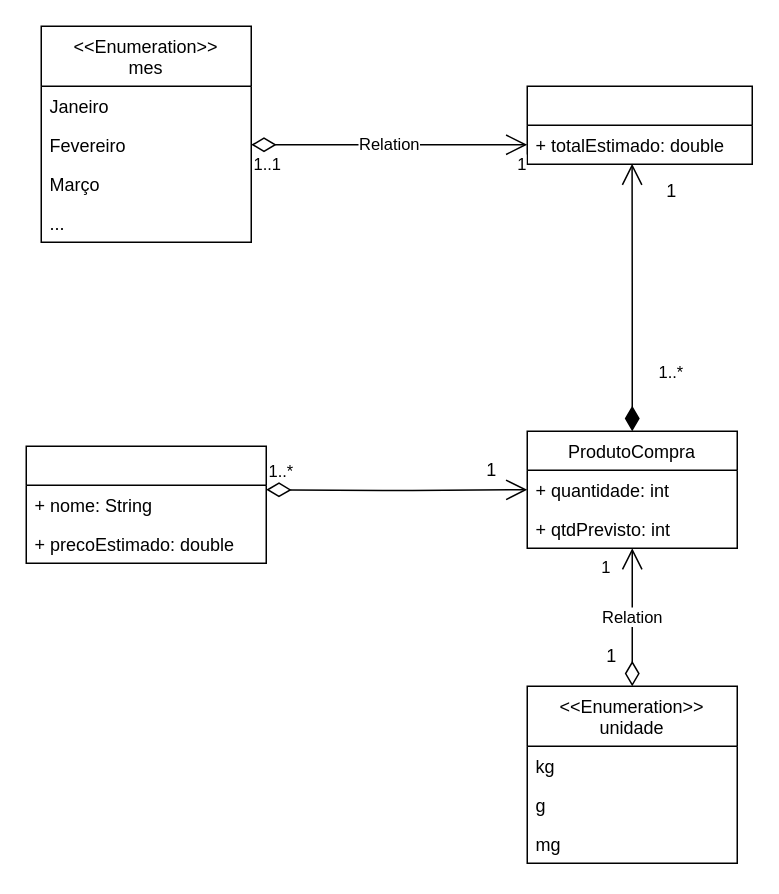
This 779x894 diagram has some shape labels left out. The shapes that lost their labels are listed below. From the top down, each one's box as (x1, y1, x2, y2) in pixels, then its label:
(526, 85, 752, 164): ListaCompra
(25, 445, 266, 563): Produto
